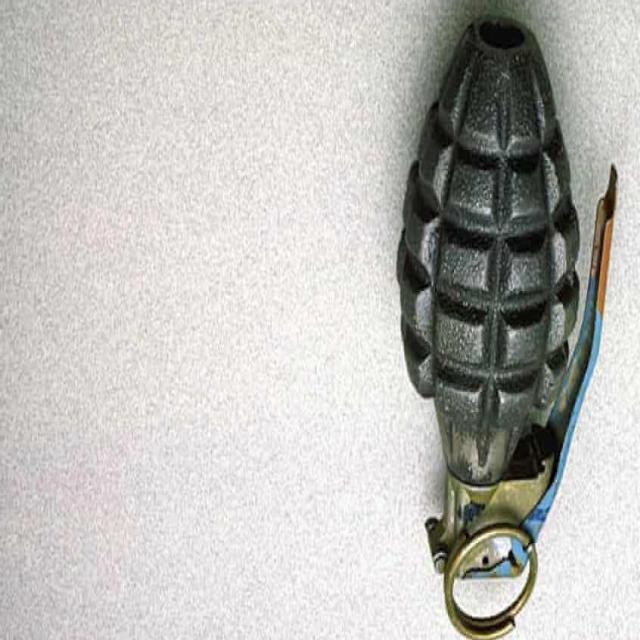grenade: (396, 14, 620, 640)
